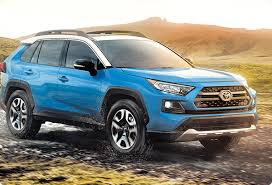Toyota: (5, 36, 255, 141)
